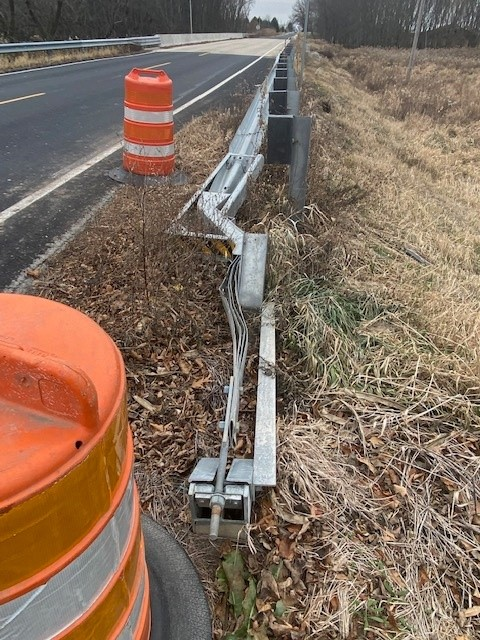damaged: (193, 160, 303, 542)
